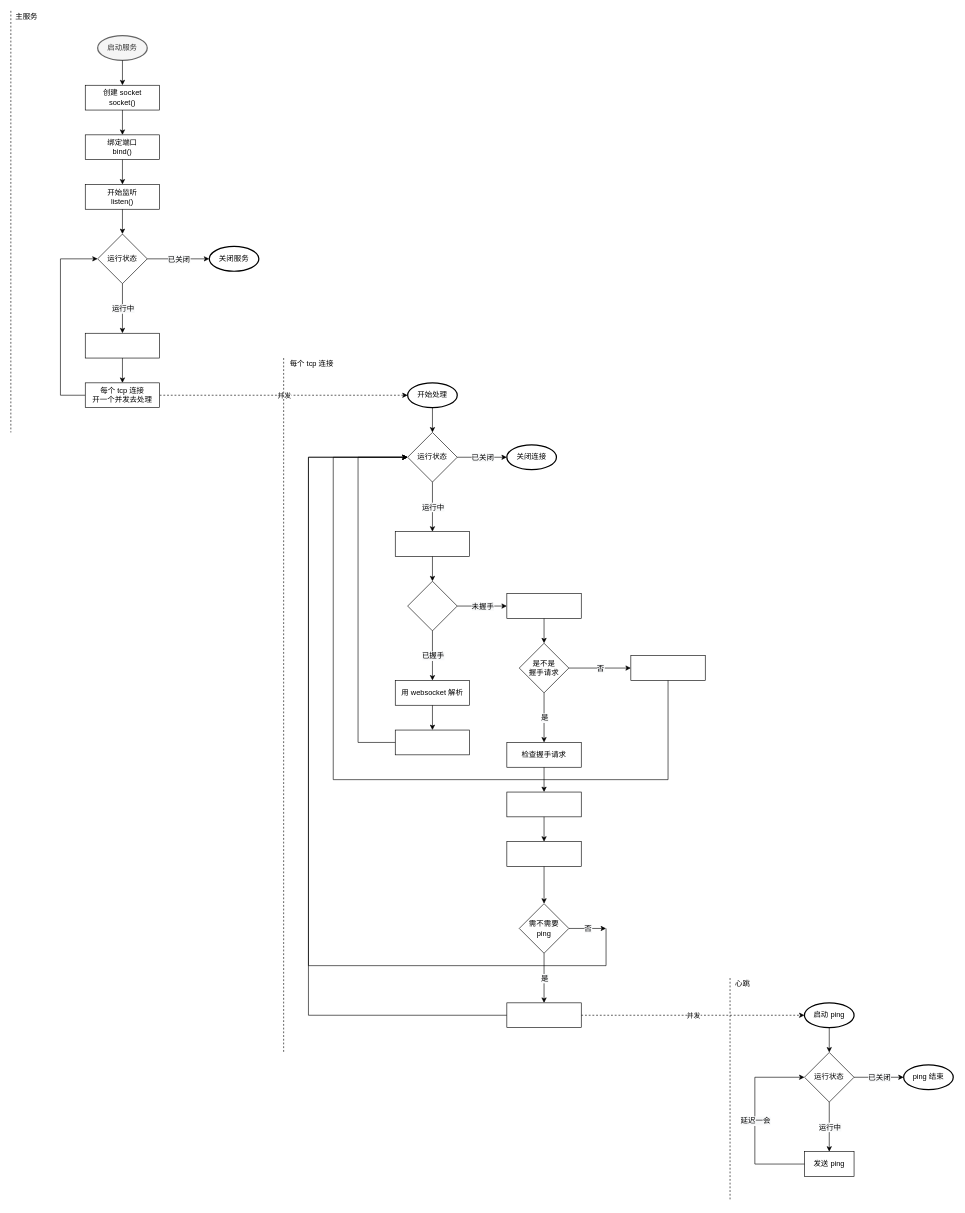
The diagram is 965 pixels wide and 1213 high, and some of its shapes have lost their labels. The box of each missing label's shape, as (x1, y1, x2, y2) in pixels:
accept() 拿 tcp 连接: (85, 333, 160, 358)
read() 数据进接收缓冲区: (395, 531, 470, 556)
按 http 请求处理: (630, 655, 705, 680)
按 websocket 处理: (395, 729, 470, 755)
握手状态: (407, 581, 457, 631)
标记为已握手: (506, 841, 581, 866)
每个 ws 连接 开一个并发处理心跳: (506, 1002, 581, 1028)
用 http 解析: (506, 593, 581, 618)
返回握手响应: (506, 791, 581, 817)
